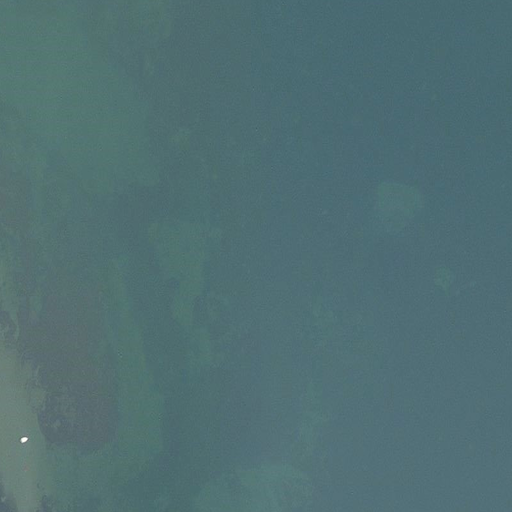ship: (19, 435, 28, 443)
